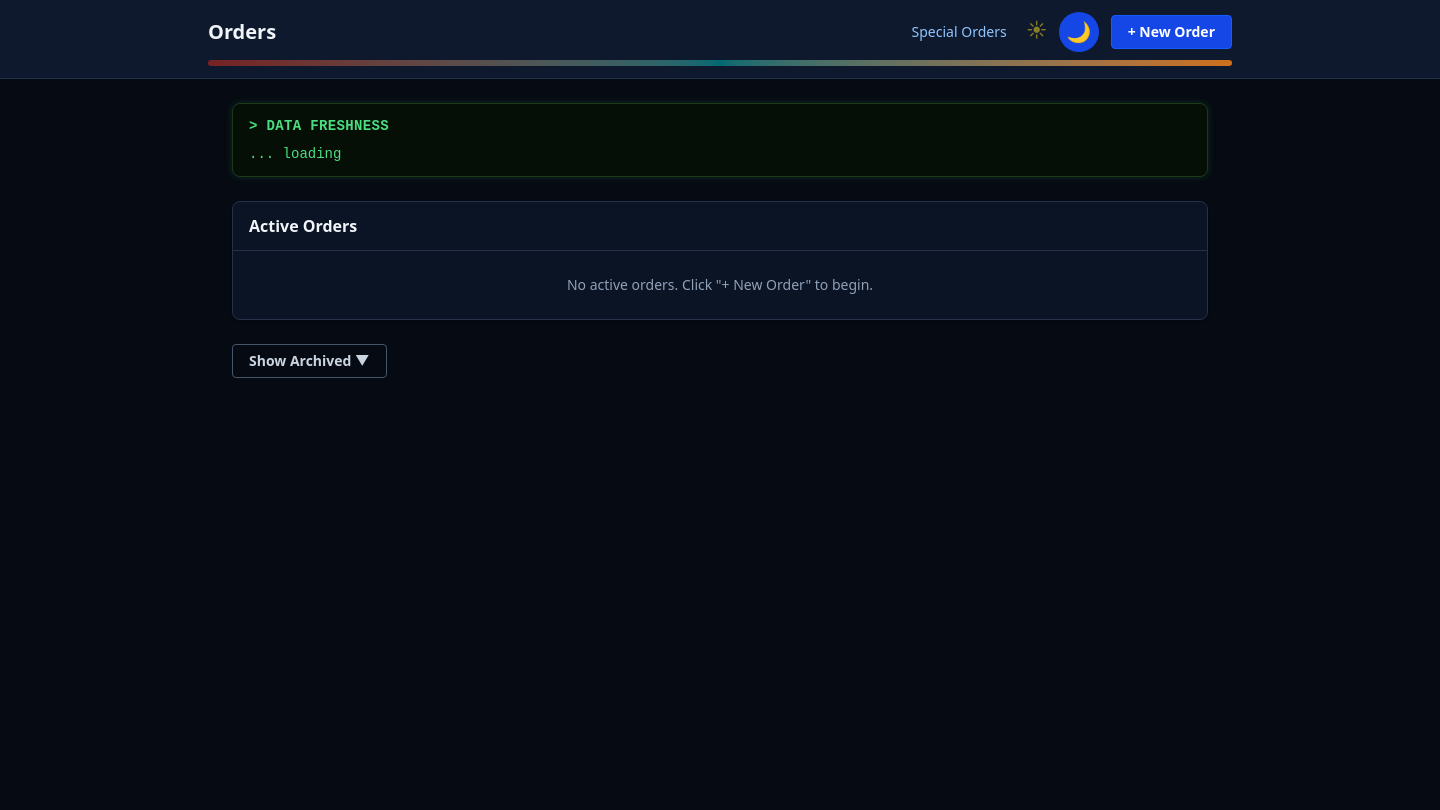
Test case: Dashboard › opens create order modal when button is clicked
The width and height of the screenshot is (1440, 810).
Click the button "+ New Order". click: (1171,32)
box: top-left (1111, 15), bottom-right (1232, 49)
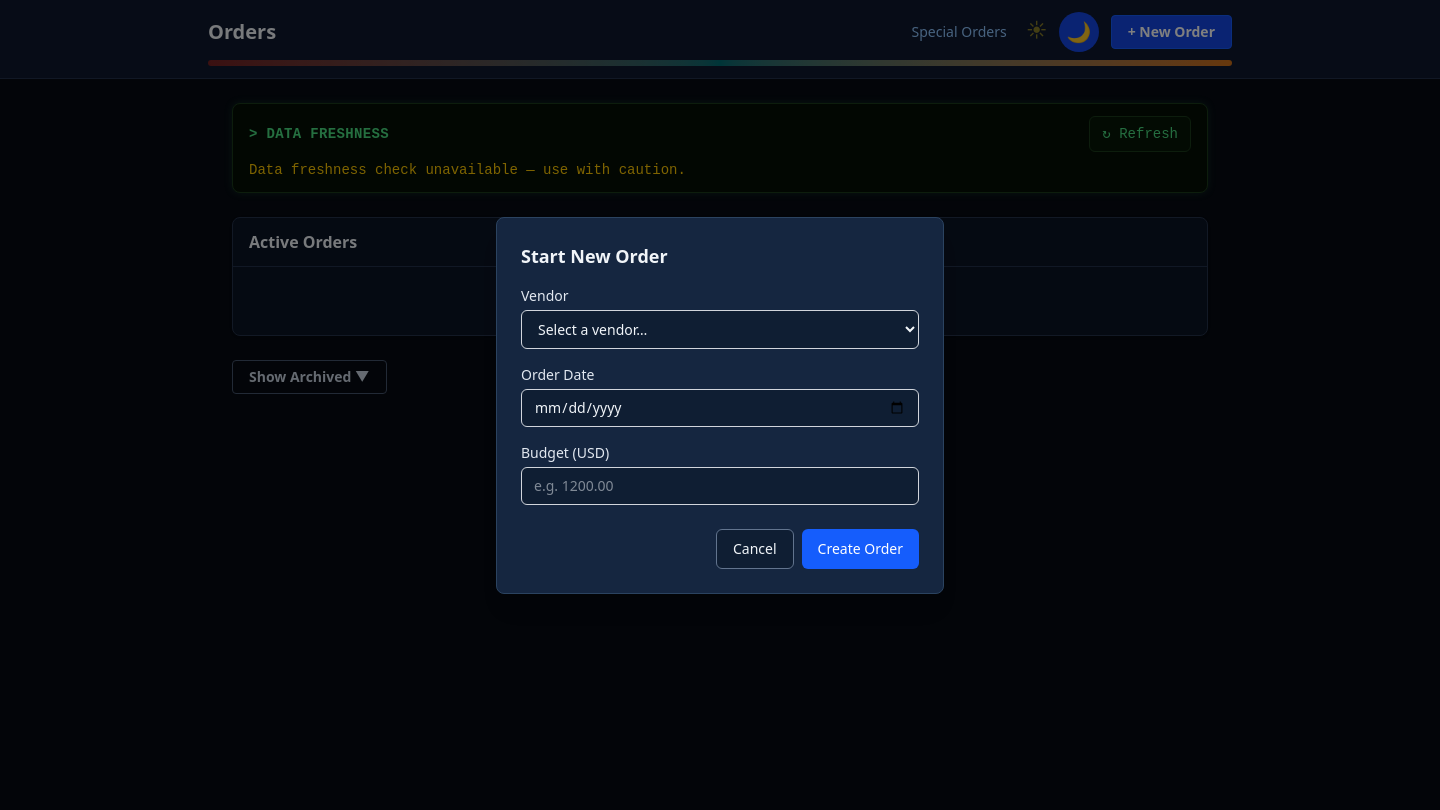
Expected: the dialog is shown
